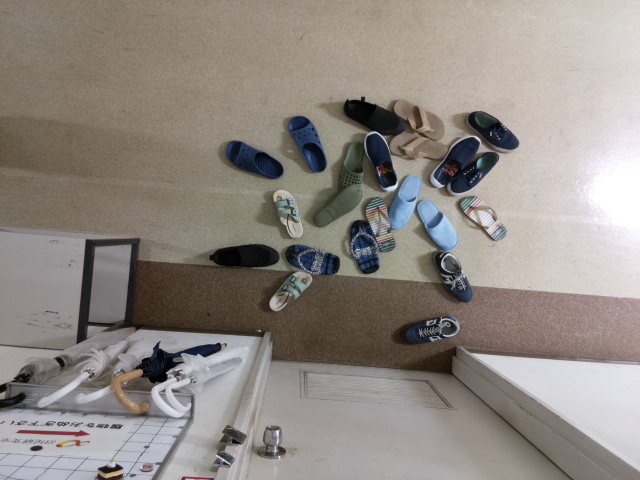Copy of Copy of Copy of Copy of Copy of Copy of Copy of Copy of Copy of Copy of: (426, 132, 484, 192), (454, 192, 513, 244), (443, 148, 504, 197), (413, 192, 463, 251), (338, 94, 408, 136), (310, 183, 373, 229), (462, 106, 522, 152), (388, 96, 448, 142), (383, 171, 425, 232), (344, 216, 386, 276), (384, 130, 450, 163), (361, 196, 399, 251)
Copy of Copy of Copy of Copy of Copy of Copy of Copy of Copy of Copy of shoe: (429, 245, 475, 307)
Copy of Copy of Copy of Copy of Copy of Copy of Copy of Copy of shoe: (398, 311, 462, 349)
Copy of Copy of Copy of Copy of Copy of Copy of Copy of shoe: (262, 266, 315, 314)
Copy of Copy of Copy of Copy of Copy of Copy of shoe: (281, 243, 346, 280)
Copy of Copy of Copy of Copy of Copy of shoe: (203, 240, 284, 270)
Copy of Copy of Copy of Copy of shoe: (268, 185, 308, 244)
Copy of Copy of Copy of shoe: (362, 129, 402, 194)
Copy of Copy of shoe: (335, 138, 366, 198)
Copy of shoe: (284, 113, 331, 176)
shoe: (221, 138, 288, 181)
